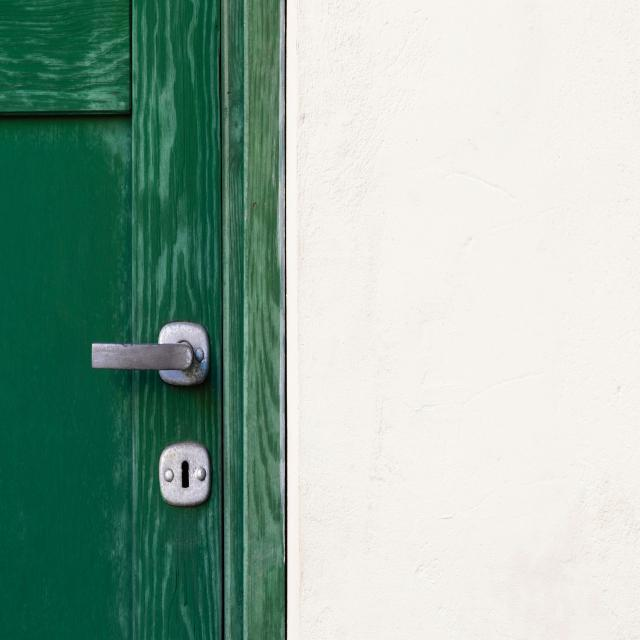door-handle: (91, 321, 210, 386)
